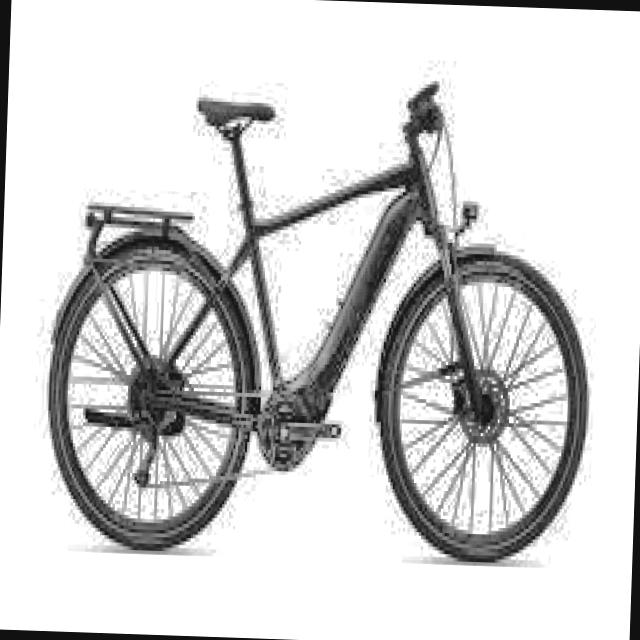bicycle: (38, 61, 602, 574)
